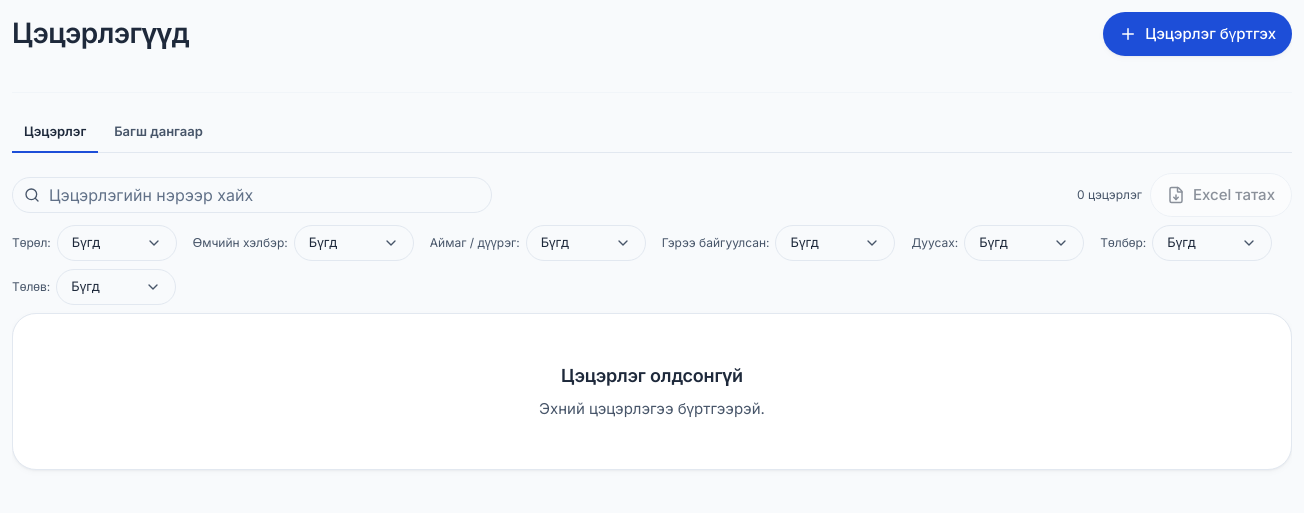
Test: the «Багш дангаар» tab › says nobody has signed up alone yet when the list is empty
The width and height of the screenshot is (1304, 513).
What coordinates should you click on to do the following:
click the tab "Багш дангаар"
I would click on:
 (158, 133)
Its box is [102,113,215,153].
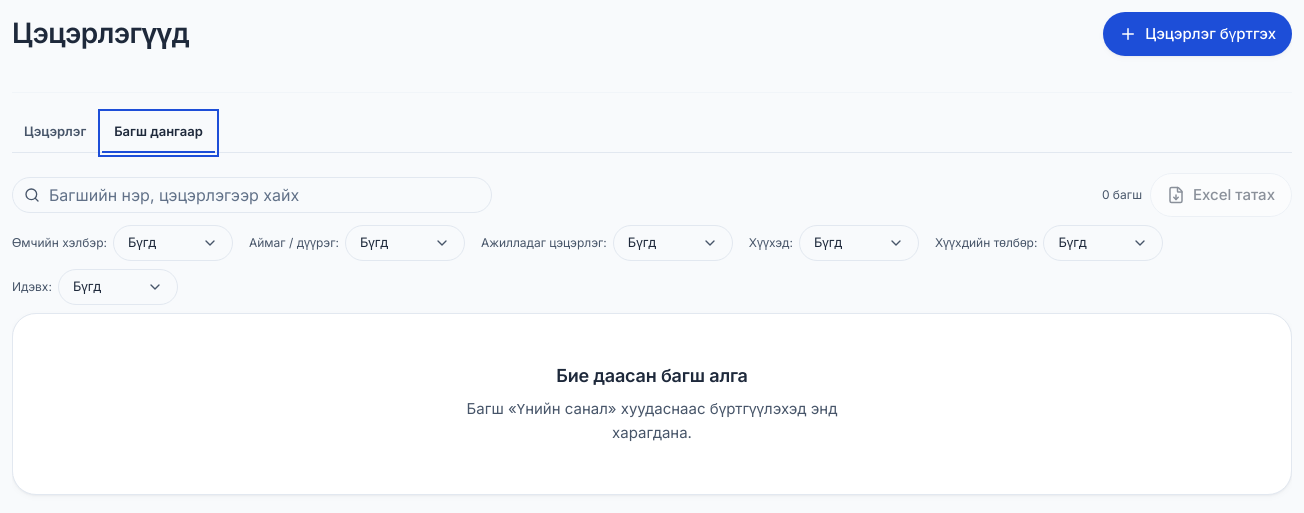
Expected: the button "Excel татах" is disabled, [1150,173,1292,217]
Expected: the text "Багш «Үнийн санал» хуудаснаас бүртгүүлэхэд энд харагдана." is shown, [460,397,844,446]
